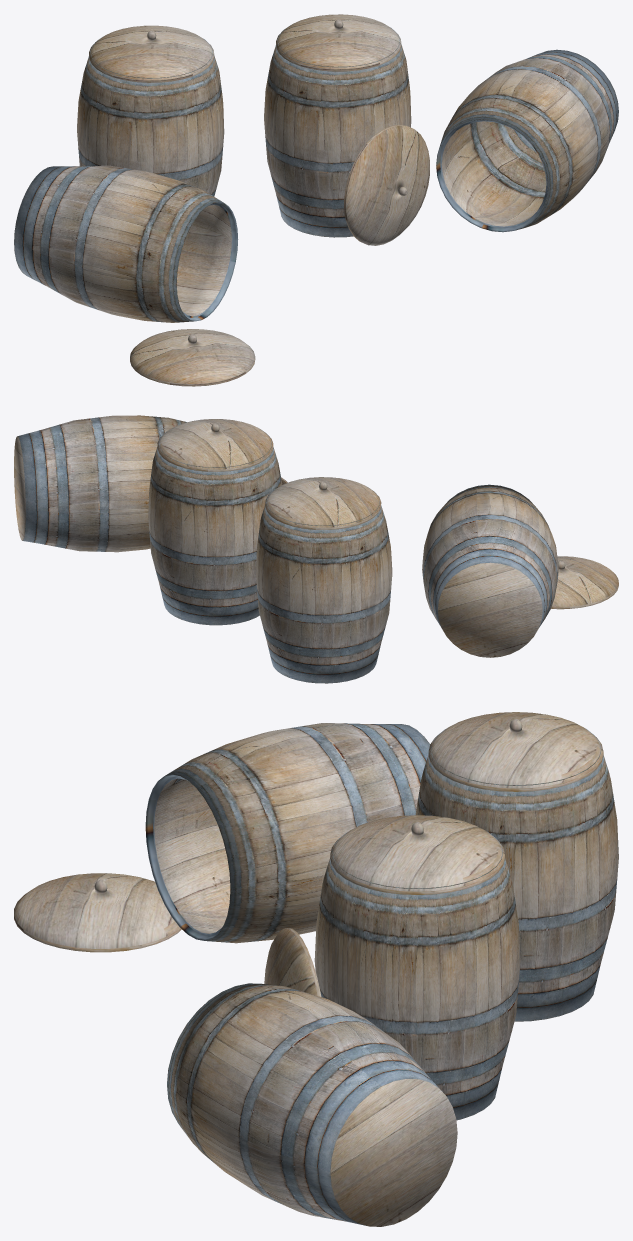
File: Barrel.fbx
3 views of the same model, one above another, from view 1: azimuth 30°, elevation 25°; view 2: azimuth 150°, elevation 25°; view 3: azimuth 270°, elevation 25° (orthographic). The views are drawn at different scales.
Parts seen in each view (by area): view 1: Boddy.001, Boddy.002, Boddy, Boddy.003, Up.002, Up.001, Up.003, Up; view 2: Boddy.003, Boddy.001, Boddy.002, Boddy, Up, Up.003, Up.001; view 3: Boddy.002, Boddy.001, Boddy, Boddy.003, Up.003, Up, Up.001, Up.002.
Boxes of the visible parts, x1,y1,x2,y2 form: Boddy.001: [14, 165, 238, 322]; Boddy.002: [436, 49, 618, 232]; Boddy: [264, 25, 411, 237]; Boddy.003: [77, 37, 224, 196]; Up.002: [344, 124, 429, 245]; Up.001: [130, 329, 255, 386]; Up.003: [89, 25, 214, 82]; Up: [276, 14, 401, 71]; Boddy.003: [256, 487, 392, 683]; Boddy.001: [422, 484, 558, 657]; Boddy.002: [14, 415, 186, 552]; Boddy: [148, 429, 282, 625]; Up: [157, 419, 273, 471]; Up.003: [265, 477, 381, 529]; Up.001: [551, 556, 618, 609]; Boddy.002: [167, 983, 457, 1226]; Boddy.001: [145, 723, 430, 943]; Boddy: [314, 832, 520, 1120]; Boddy.003: [415, 728, 618, 1021]; Up.003: [428, 712, 603, 791]; Up: [330, 815, 504, 894]; Up.001: [14, 873, 181, 952]; Up.002: [264, 928, 321, 996].
Bounding box in the file's own units: 3636 × 1160 × 2324.
